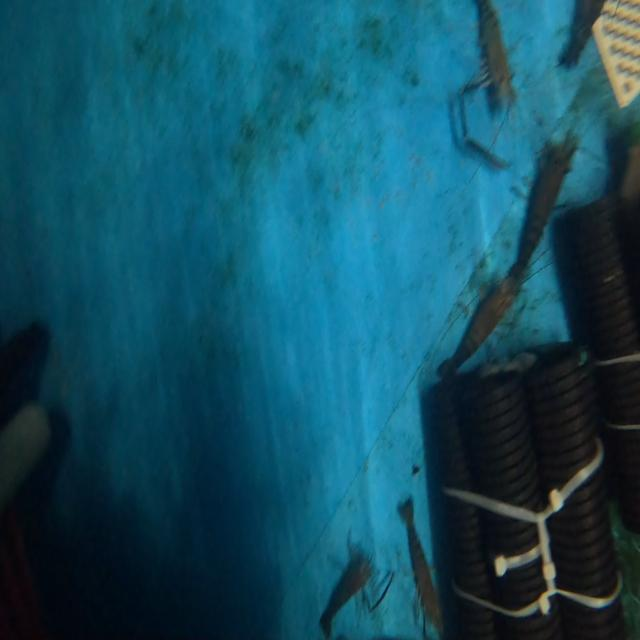prawn: (518, 134, 576, 256), (453, 277, 518, 367), (398, 499, 440, 632), (320, 544, 373, 632), (476, 0, 512, 108)
